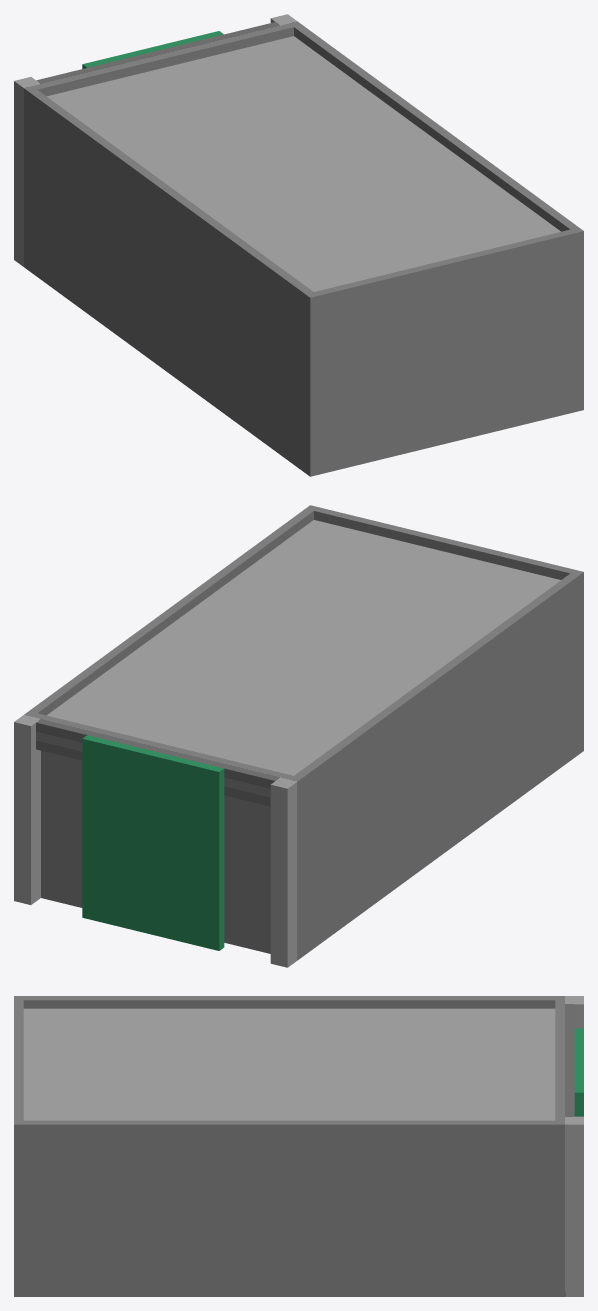
File: obj_story06c.fbx
3 renders of one model, top to bottom at view 1: azimuth 30°, elevation 25°; view 2: azimuth 150°, elevation 25°; view 3: azimuth 270°, elevation 25°, orthographic. The views are drawn at different scales.
Visible parts, largest first — view 1: obj_story06c; view 2: obj_story06c; view 3: obj_story06c.
Boxes of the visible parts, x1,y1,x2,y2 form: obj_story06c: [14, 14, 583, 476]; obj_story06c: [14, 505, 583, 967]; obj_story06c: [14, 996, 583, 1296].
Bounding box in the file's own units: 3.2 × 6 × 2.
Materials: 1 (1 with a texture image).
